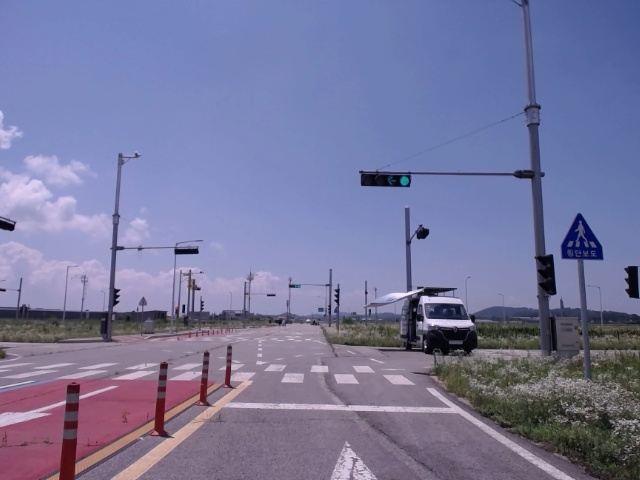all_green_4: (360, 169, 411, 186)
